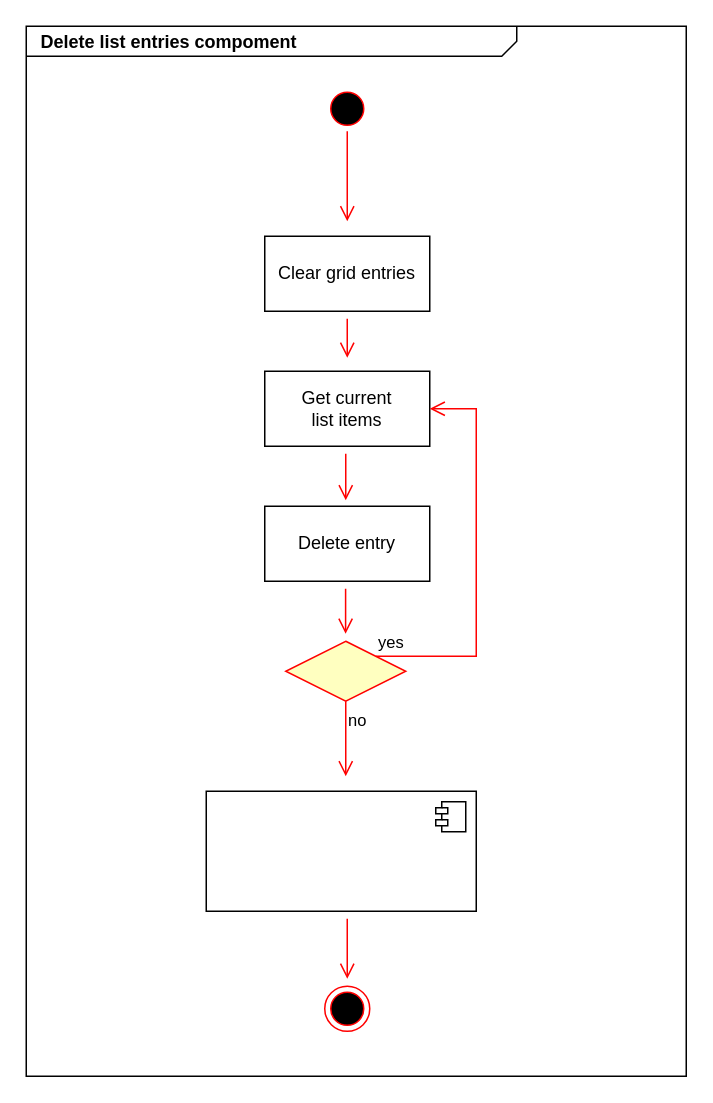
This 713x1103 diagram has some shape labels left out. Each missing label, with the centre of its shape:
Has next: (x=345, y=670)
Initialize list elements Observable robots: (x=340, y=850)
